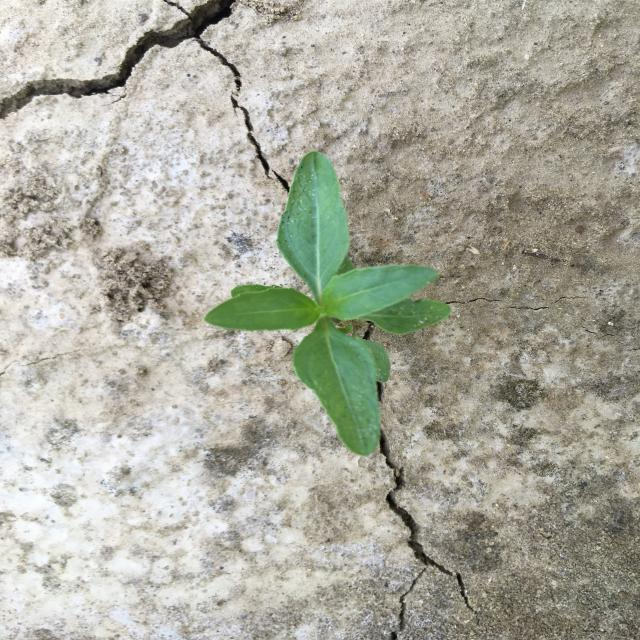Eclipta: (203, 151, 452, 456)
